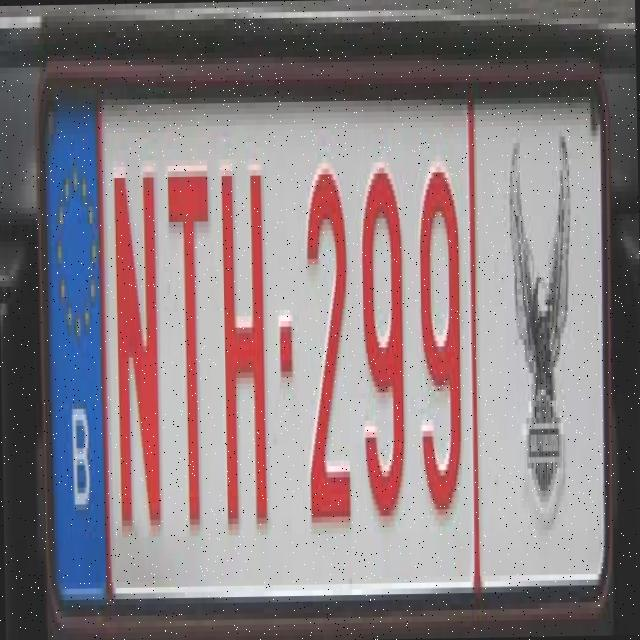Belgique: (41, 102, 112, 620)
EU: (39, 61, 614, 628)
